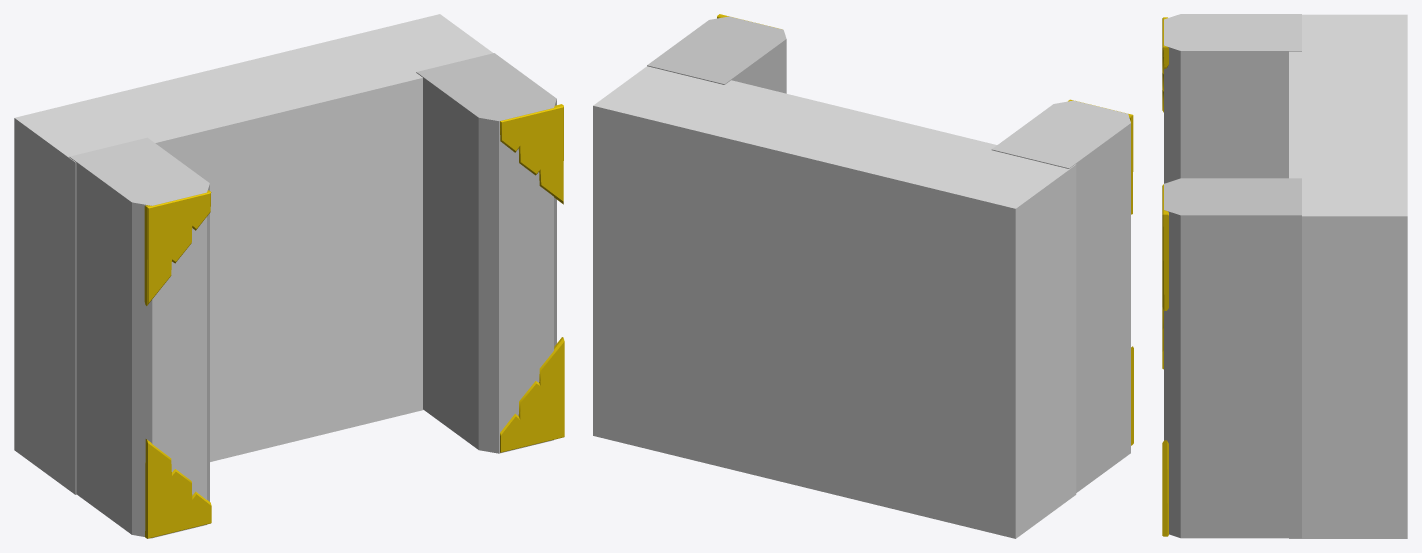
Rendered from Pillar002.fbx.
3 views of the same model, side by side, from view 1: azimuth 30°, elevation 25°; view 2: azimuth 150°, elevation 25°; view 3: azimuth 270°, elevation 25° (orthographic). The views are drawn at different scales.
Visible parts, largest first — view 1: pCube6, leftwall1, leftwall, pCube1, pCube5; view 2: pCube6, leftwall, leftwall1; view 3: pCube6, leftwall1, leftwall, pCube5, pCube1.
Part boxes in pixels (x1,y1,x2,y2): pCube6: [14, 14, 493, 494]; leftwall1: [416, 53, 556, 453]; leftwall: [69, 137, 209, 538]; pCube1: [145, 337, 564, 538]; pCube5: [144, 104, 563, 305]; pCube6: [593, 66, 1076, 538]; leftwall: [991, 100, 1130, 492]; leftwall1: [647, 16, 786, 93]; pCube6: [1289, 14, 1407, 538]; leftwall1: [1164, 178, 1301, 538]; leftwall: [1164, 14, 1301, 183]; pCube5: [1162, 17, 1168, 310]; pCube1: [1162, 307, 1168, 536].
Size of the model in its own units: 30.82 by 23.05 by 15.83.
